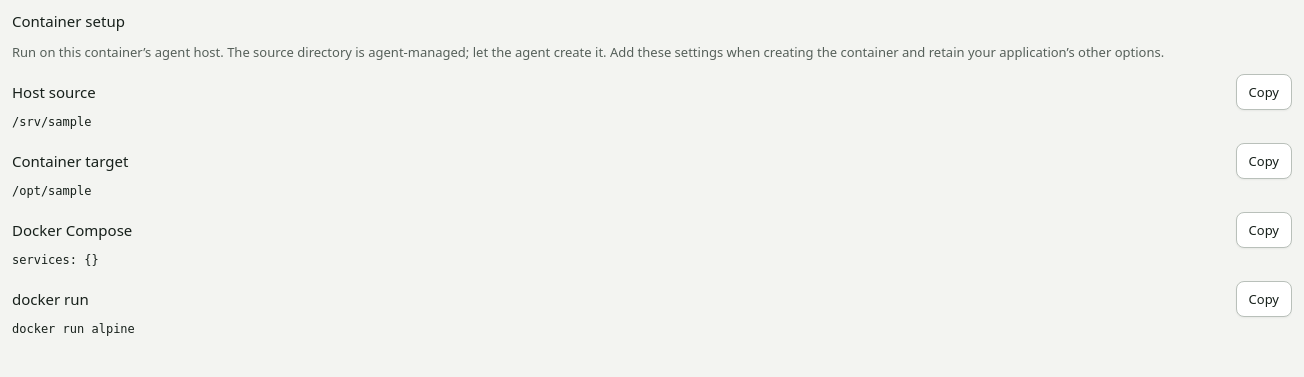
Test case: keeps selectable examples when clipboard access fails
The width and height of the screenshot is (1304, 377).
Step 1. Click the button with aria-label "Copy Host source" → [1264, 92], box [1236,74,1292,110]
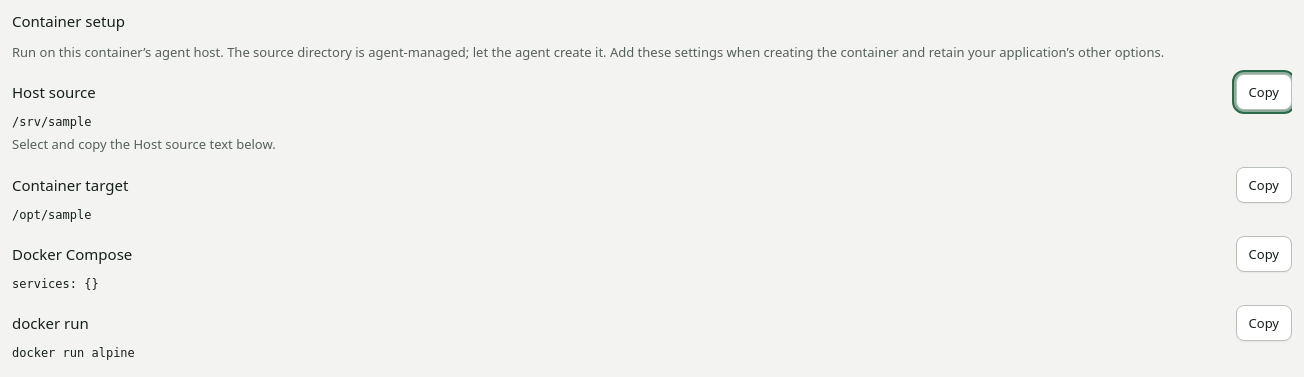
Check: the text "/srv/sample" is shown, box [12,115,92,129]
Check: the message reads "Select and copy the Host source text below.", box [12,135,276,153]
